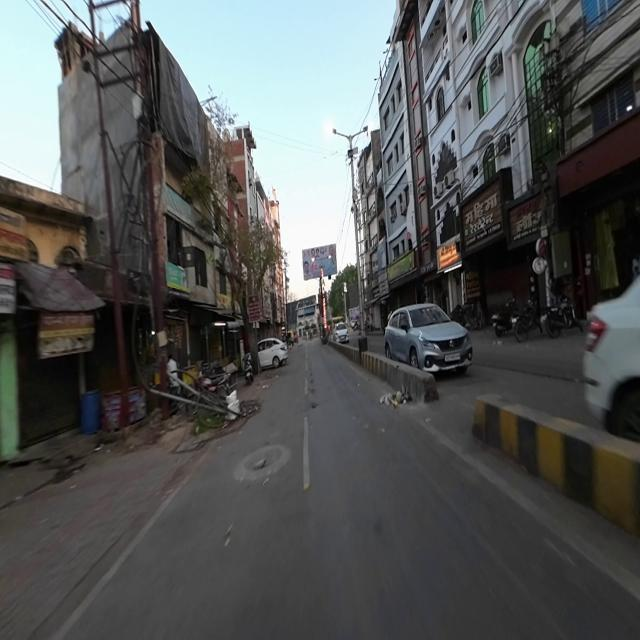Garbage: (381, 386, 412, 410)
